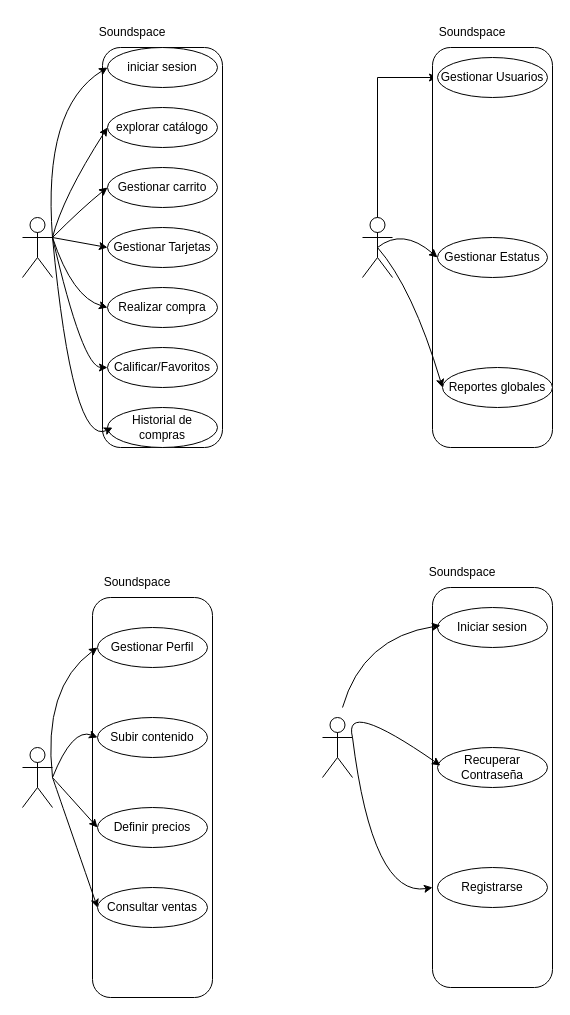
This 570x1015 diagram has some shape labels left out. The box of each missing label's shape, as (x1, y1, x2, y2) in pixels:
Administrador: (362, 216, 392, 278)
Artista: (22, 746, 52, 808)
Usuario: (22, 216, 52, 278)
Usurio 0/no registrado: (322, 716, 352, 778)
